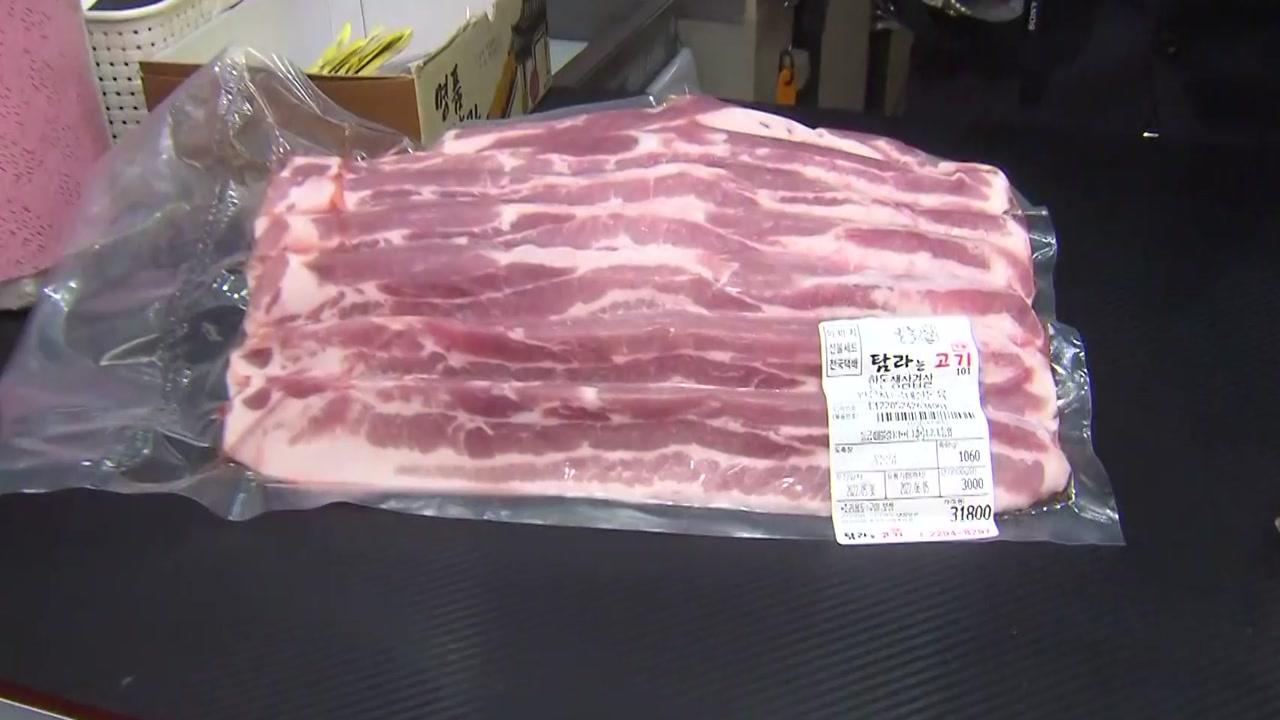beef: (548, 148, 1280, 564)
